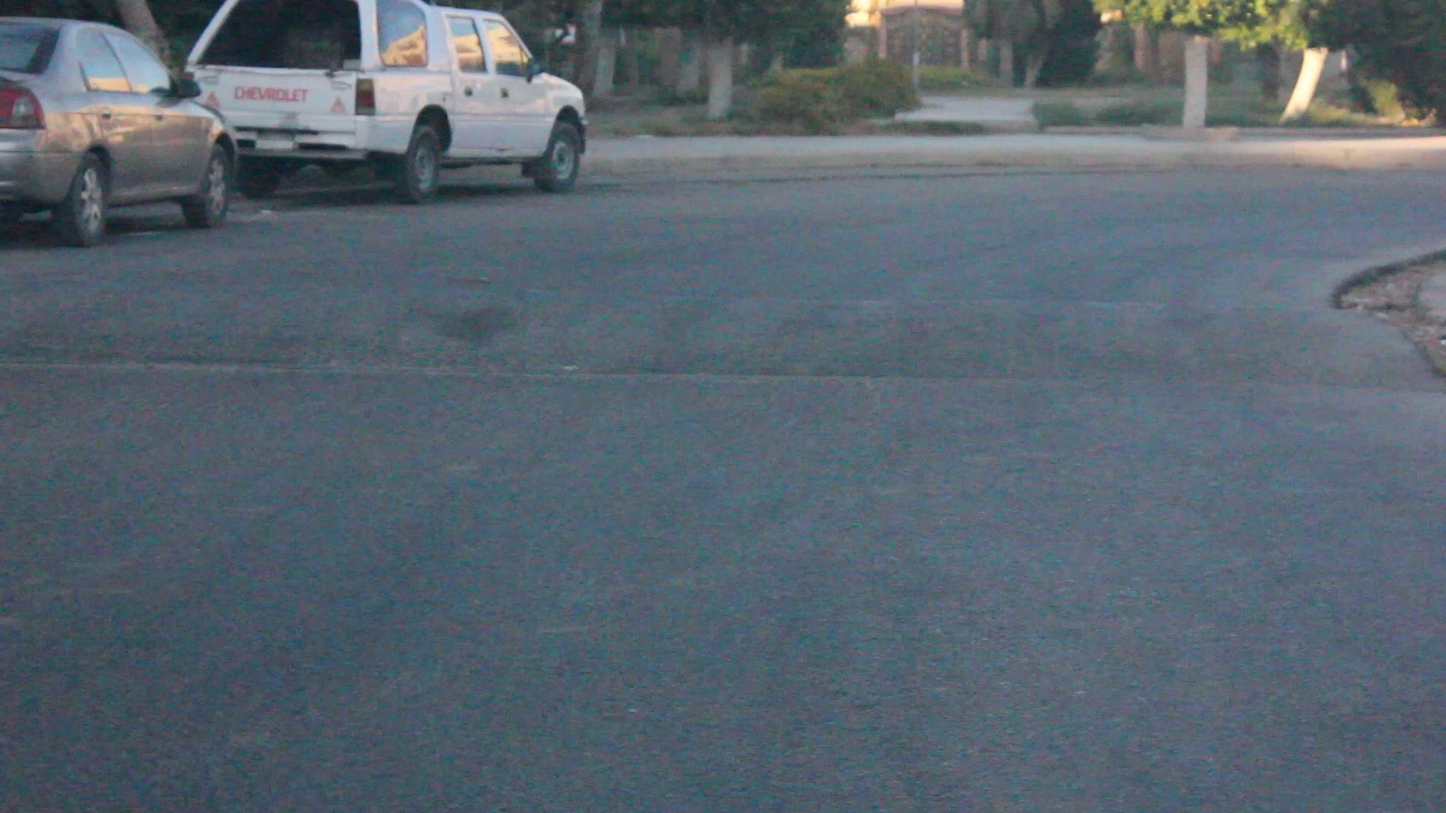Bump: (4, 271, 1397, 393)
